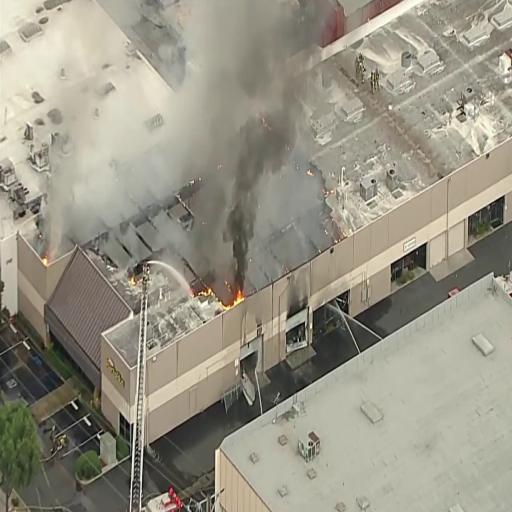smoke: (227, 89, 289, 274)
